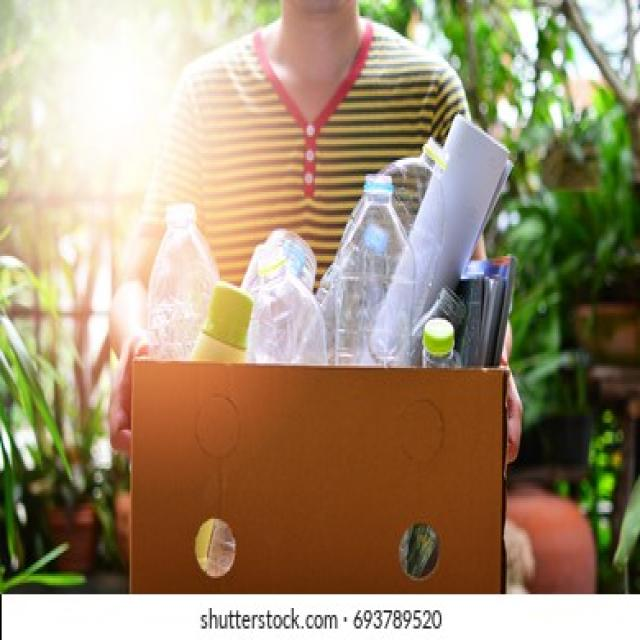cardboard: (131, 357, 517, 585)
paper: (417, 133, 502, 336)
plastic: (151, 197, 423, 377)
